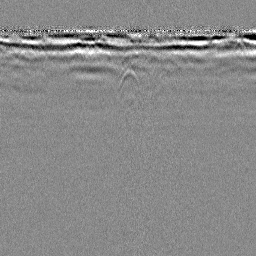cavity: (116, 67, 141, 91)
